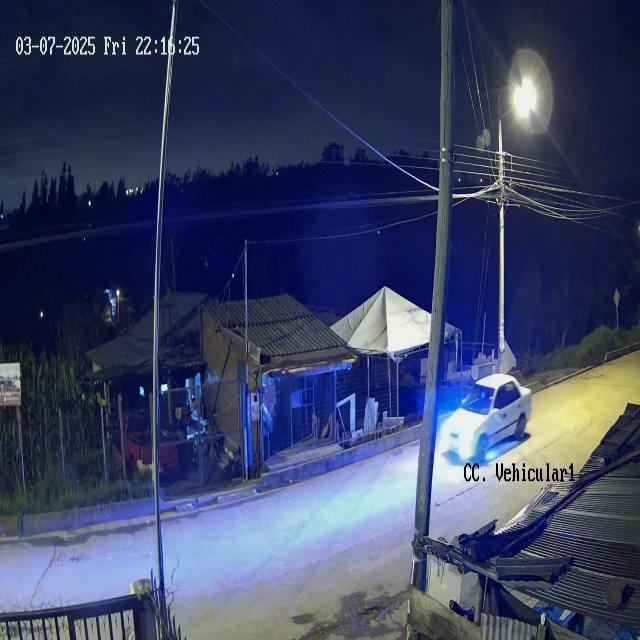SED: (439, 372, 533, 462)
